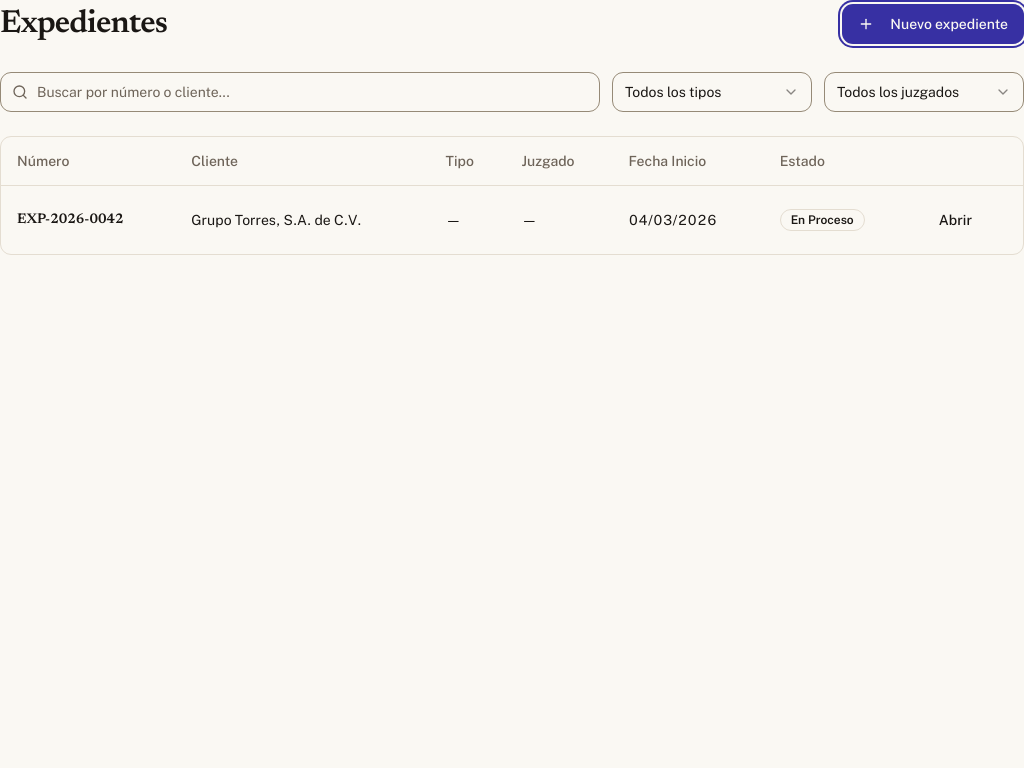
Scenario: dialogs keep and return focus › returns focus to the create button when the form is closed with Escape
Expected: the row "EXP-2026-0042" is shown, [1,185,1023,254]
Click the button "Nuevo expediente" at (933, 24), box [842,4,1023,44]
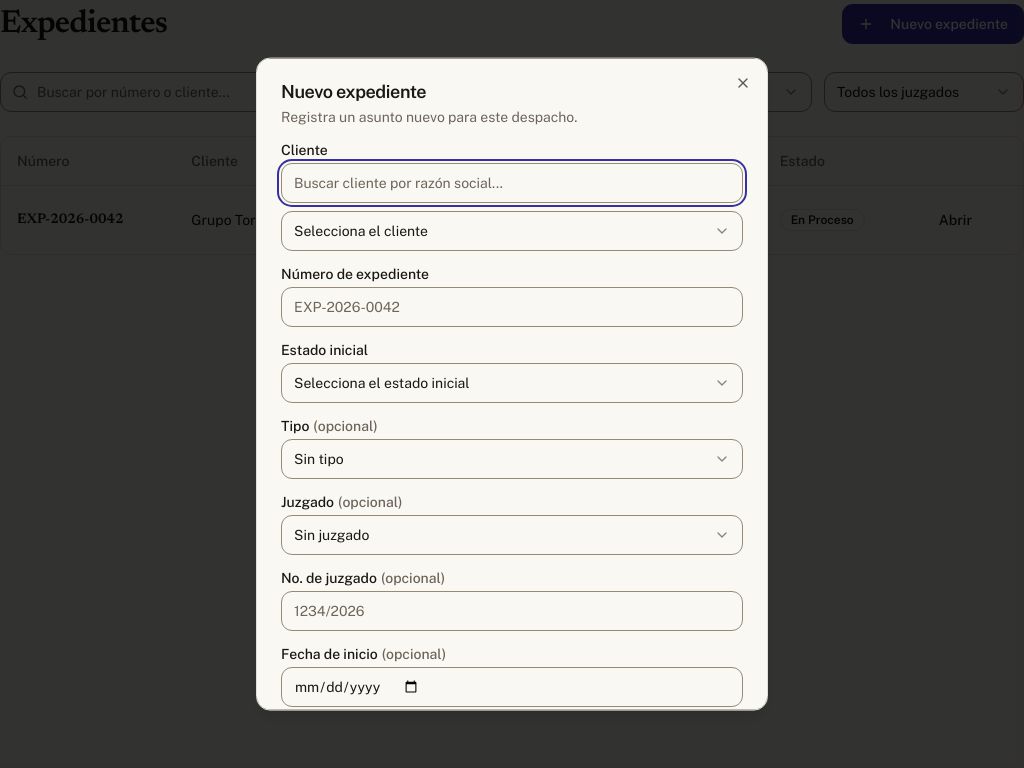
Expected: the dialog is shown, [256,58,768,710]
Press Escape
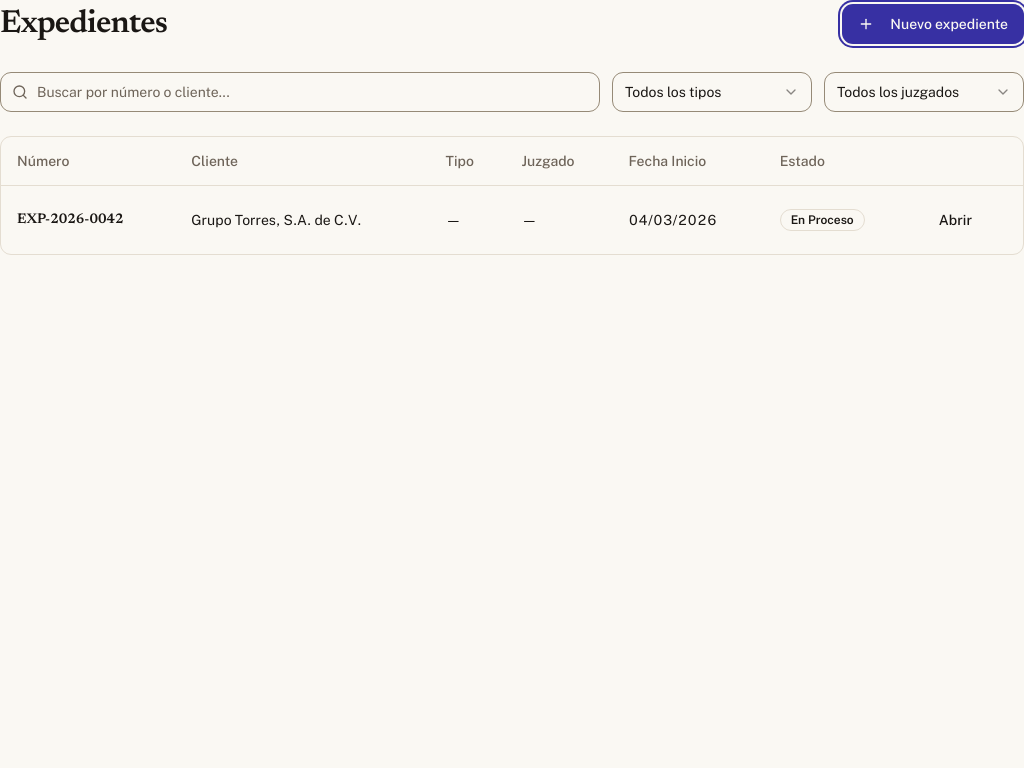
Expected: the dialog is gone
